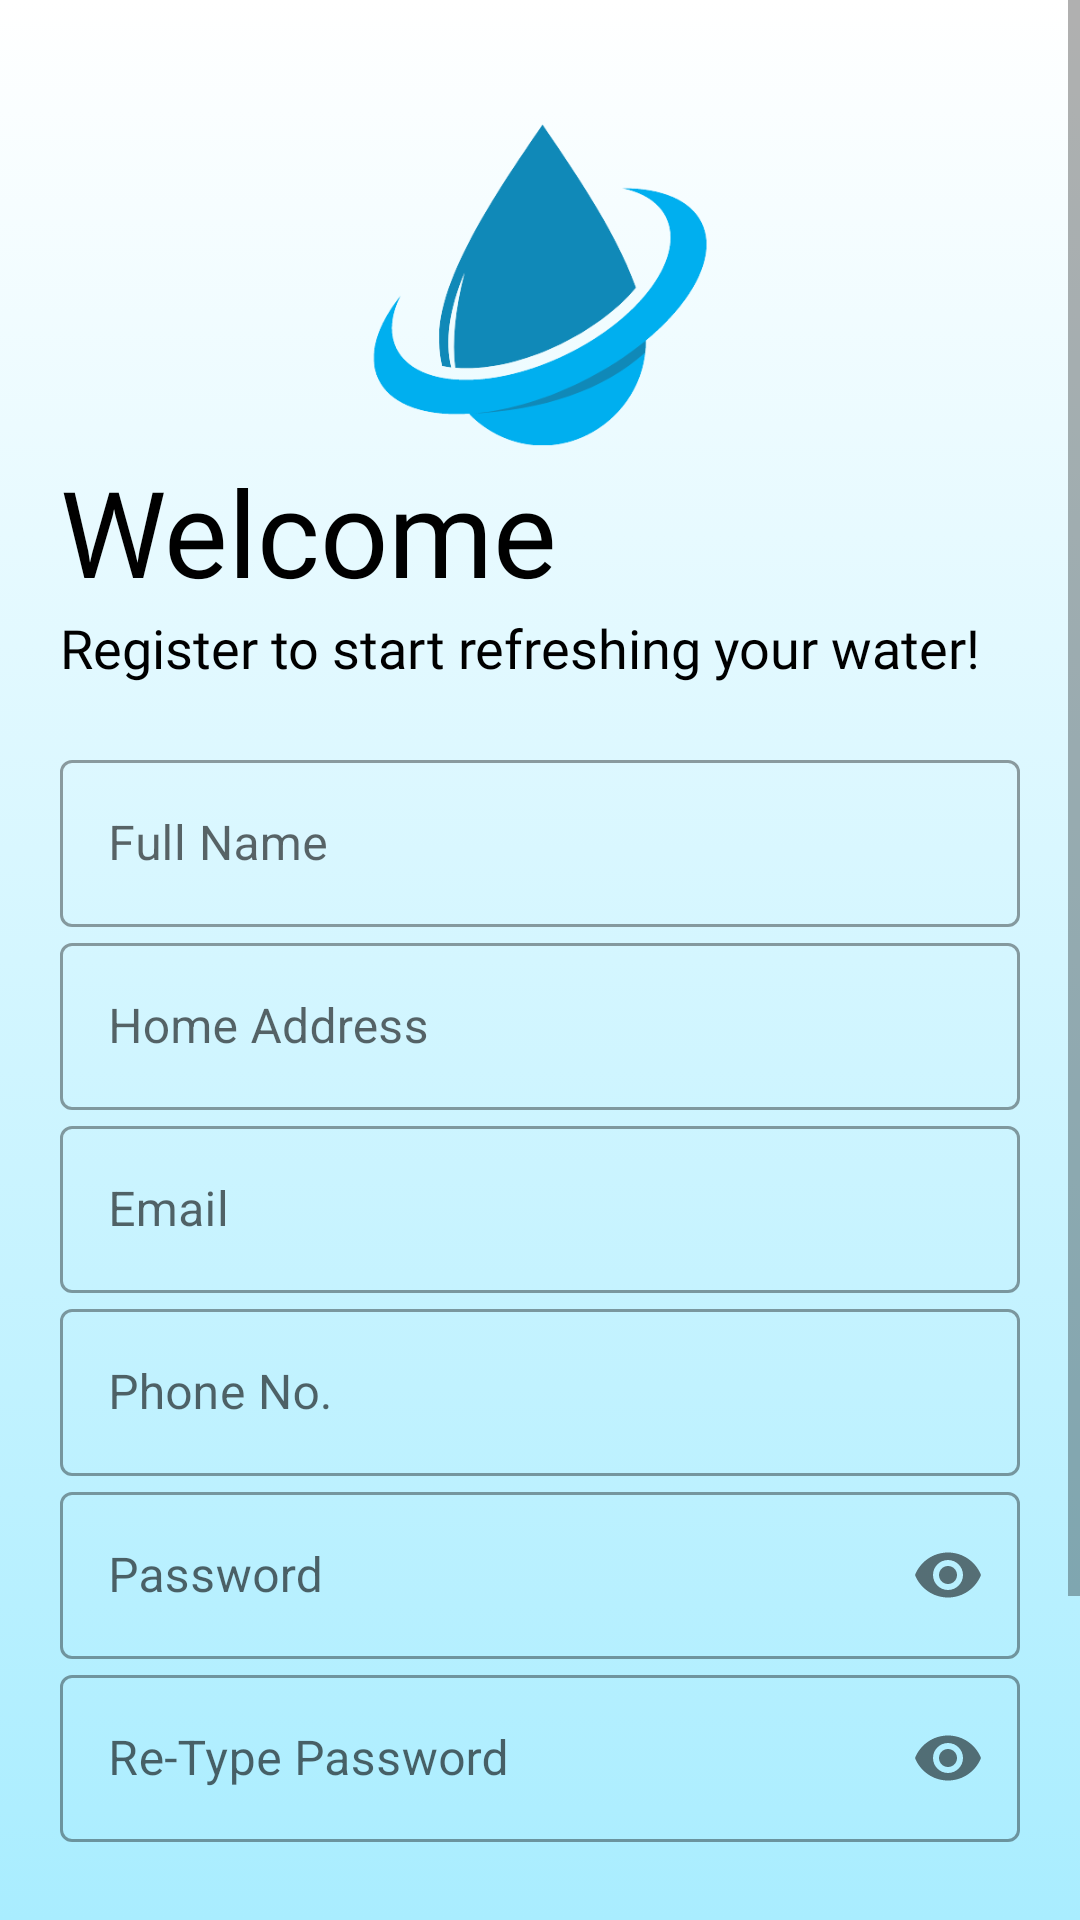

Icons on this 1080x1920 Android screen, each with its box as rect(x1, y1, x2, y2):
waterremoveback: rect(373, 125, 707, 446)
